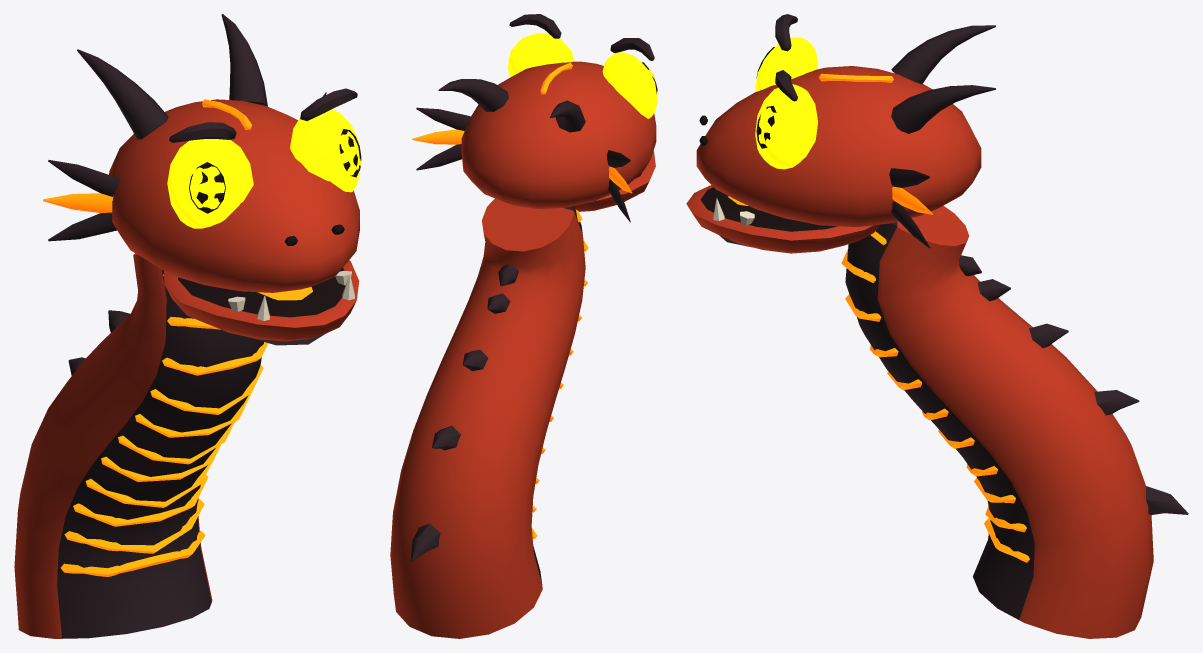
The model's file is lava_serpent.glb.
3 views of the same model, side by side, from view 1: azimuth 30°, elevation 25°; view 2: azimuth 150°, elevation 25°; view 3: azimuth 270°, elevation 25° (orthographic). The views are drawn at different scales.
Parts seen in each view (by area): view 1: body, jaw; view 2: body, jaw; view 3: body, jaw.
Part boxes in pixels (left/top/right/bottom): body: left=14, top=14, right=361, bottom=638; jaw: left=164, top=260, right=359, bottom=345; body: left=390, top=14, right=657, bottom=638; jaw: left=574, top=151, right=655, bottom=211; body: left=696, top=14, right=1188, bottom=638; jaw: left=686, top=185, right=879, bottom=253.
Size of the model in its own units: 1.34 by 2.89 by 2.3.
